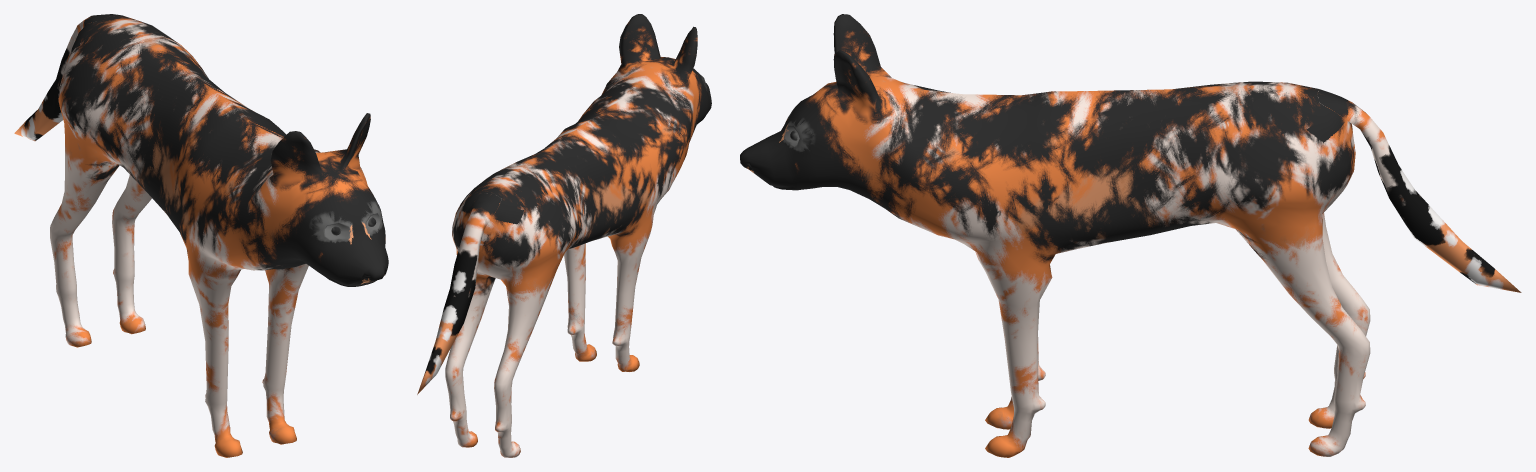
The model's file is wild_dog.fbx.
3 views of the same model, side by side, from view 1: azimuth 30°, elevation 25°; view 2: azimuth 150°, elevation 25°; view 3: azimuth 270°, elevation 25° (orthographic). The views are drawn at different scales.
Visible parts, largest first — view 1: Plane; view 2: Plane; view 3: Plane.
Part boxes in pixels (x1,y1,x2,y2): Plane: (14, 14, 388, 457); Plane: (417, 14, 711, 457); Plane: (740, 14, 1521, 457).
Bounding box in the file's own units: 85.1 × 236 × 410.
